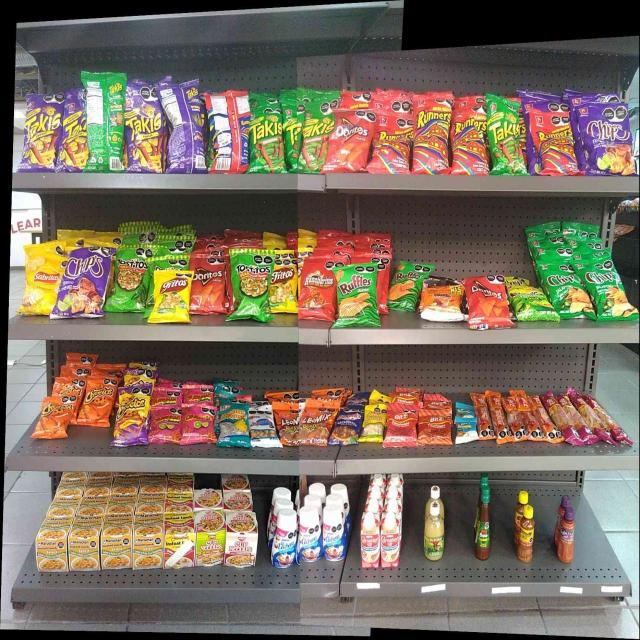bitzAlmendras: (456, 418, 476, 441)
bitzEnchilado90: (388, 404, 417, 446), (420, 411, 451, 445)
bitzEnchilado95: (479, 392, 545, 441)
bitzHabanero: (547, 392, 617, 444)
bokadosCacahuates: (337, 411, 360, 444)
botaneraChilito: (520, 504, 533, 562)
cheetosFlaminHot: (114, 388, 148, 444)
cheetosOriginal: (79, 377, 112, 426), (43, 396, 75, 437)
chipsFuego: (577, 104, 629, 175), (61, 249, 104, 317)
chipsJalapeno: (588, 259, 628, 321), (551, 263, 583, 319)
chipsPapatinas: (508, 276, 548, 325)
churrumais: (183, 401, 215, 444), (150, 405, 181, 443), (184, 384, 214, 400), (152, 387, 182, 403)
delPrimoSalsa: (425, 502, 444, 560)
doritosNacho: (191, 252, 226, 313), (332, 110, 366, 171), (466, 278, 504, 328)
fritosLimon: (154, 269, 188, 321), (274, 249, 297, 314)
hotNutsOriginal: (420, 276, 463, 320)
leoCacahuates: (249, 405, 275, 447)
leoMix: (300, 399, 329, 445), (277, 401, 298, 446)
maruchanPollo: (36, 516, 68, 573), (102, 513, 132, 569), (71, 516, 100, 572), (134, 513, 162, 569)
maruchanRes: (165, 513, 194, 568)
nestleCarnation: (362, 512, 379, 568), (382, 512, 399, 567)
nestleLechera: (272, 513, 296, 567), (300, 507, 322, 562), (324, 506, 344, 562)
nissinCamaron: (196, 510, 224, 565)
nissinRes: (227, 510, 256, 568)
productoAtras: (163, 83, 202, 173), (204, 95, 247, 173)
rancheritos: (299, 258, 334, 321)
rufflesQueso: (337, 265, 376, 324), (392, 260, 418, 311)
runners: (450, 102, 488, 174), (368, 111, 412, 173), (530, 108, 570, 176), (414, 95, 448, 173)
sabritasOriginal: (25, 252, 58, 308)
salsaBufalo: (477, 486, 489, 559)
semillasCalabaza: (364, 404, 383, 442)
semillasGirasol: (217, 398, 248, 448)
tajinDulce: (560, 507, 573, 562)
takisFuego: (127, 85, 162, 172), (27, 95, 62, 171), (63, 90, 86, 172)
takisOriginal: (88, 74, 124, 172), (489, 96, 520, 175), (249, 113, 284, 175), (302, 103, 331, 173), (285, 104, 301, 173)
tostitos: (230, 249, 272, 323), (115, 244, 146, 313)
